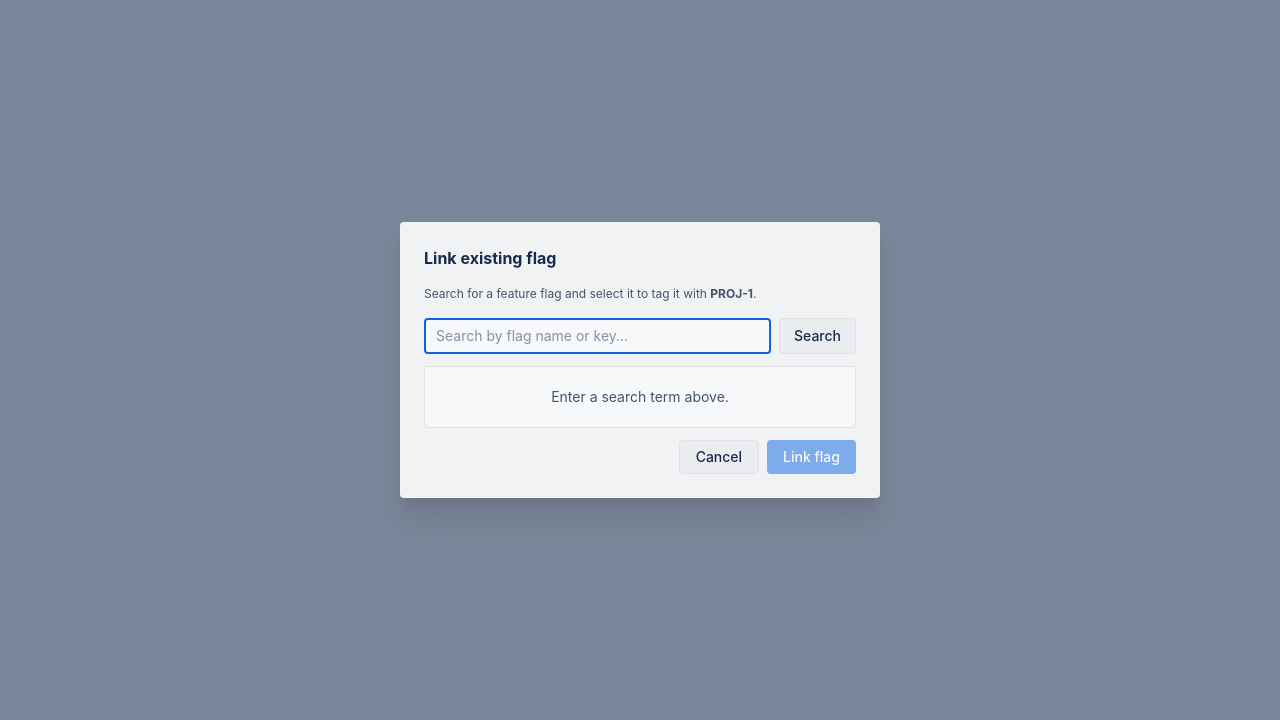
Test case: LinkFlagModal › shows an error returned from searchFlags
The image size is (1280, 720).
Type "x" into the field with placeholder "Search by flag name or key…" at [598, 336], box 424,318 -> 771,354
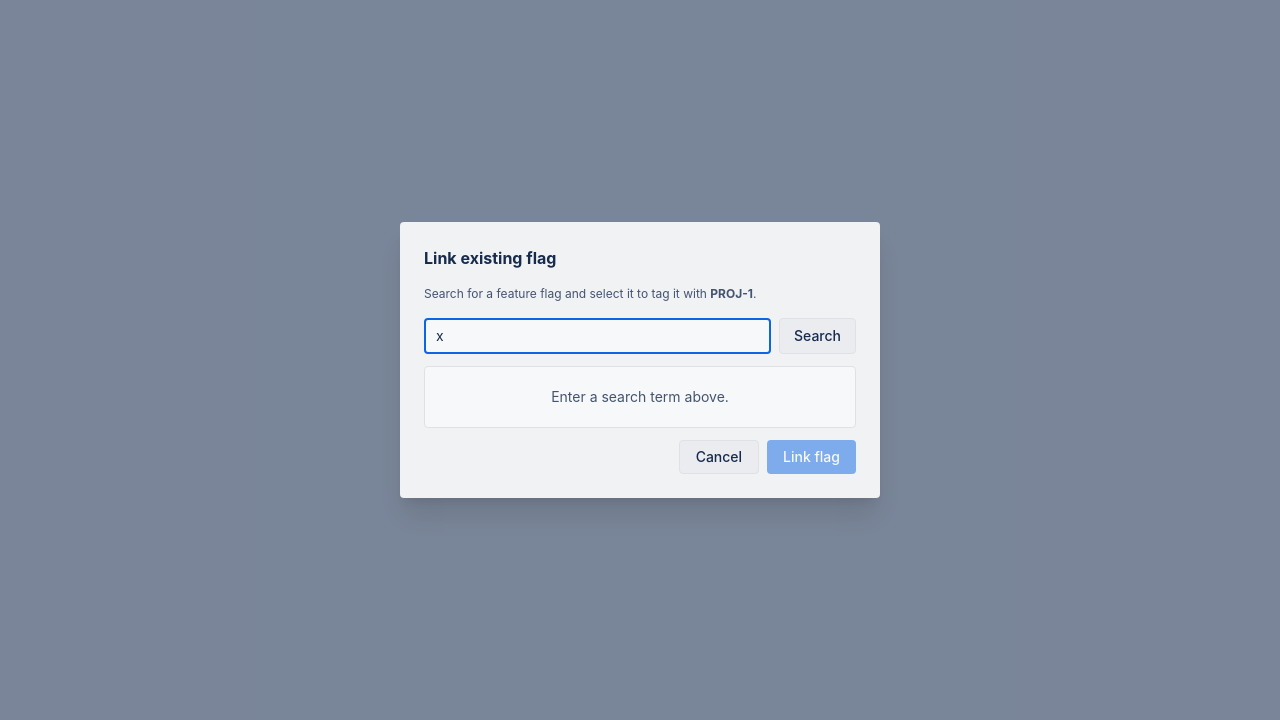
Click the button "Search" at [818, 336], box 779,318 -> 856,354
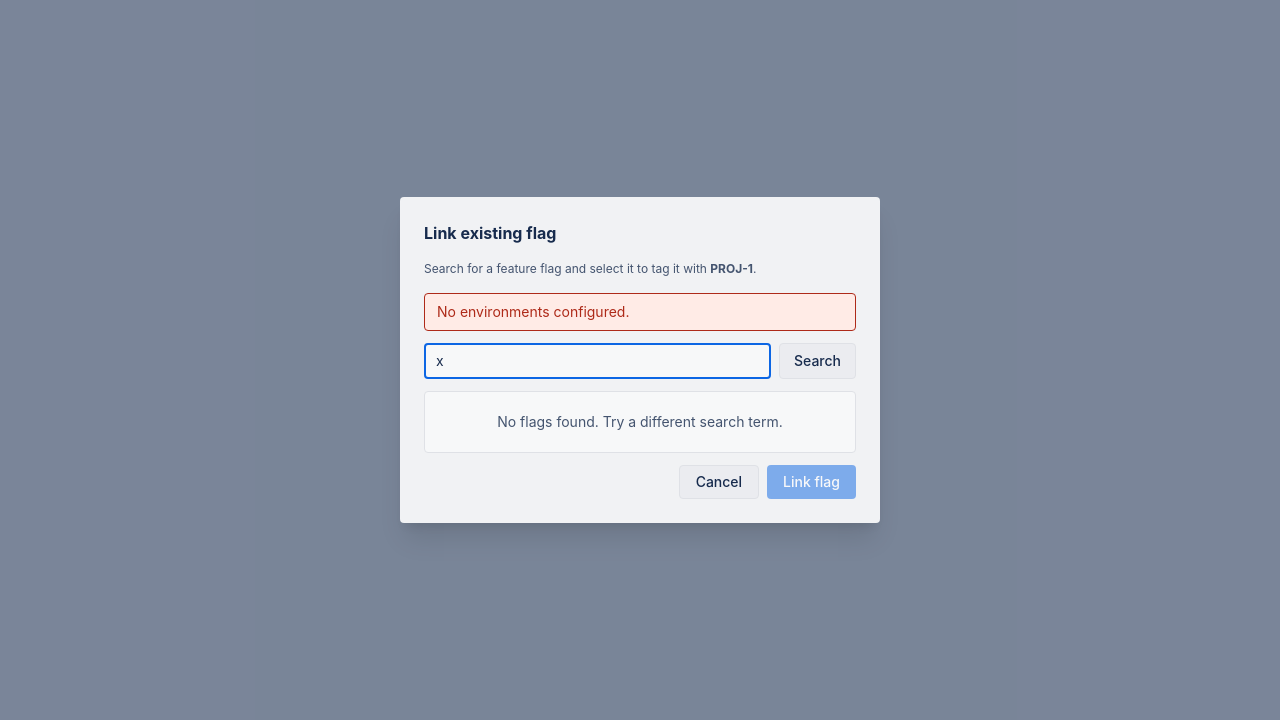
Check: the text "No environments configured" is shown, box 437,303 -> 630,320
